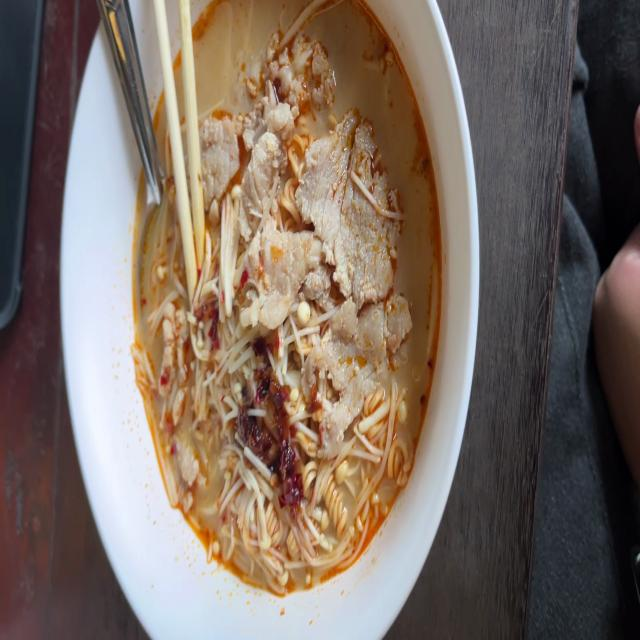noodle: (130, 2, 448, 605)
